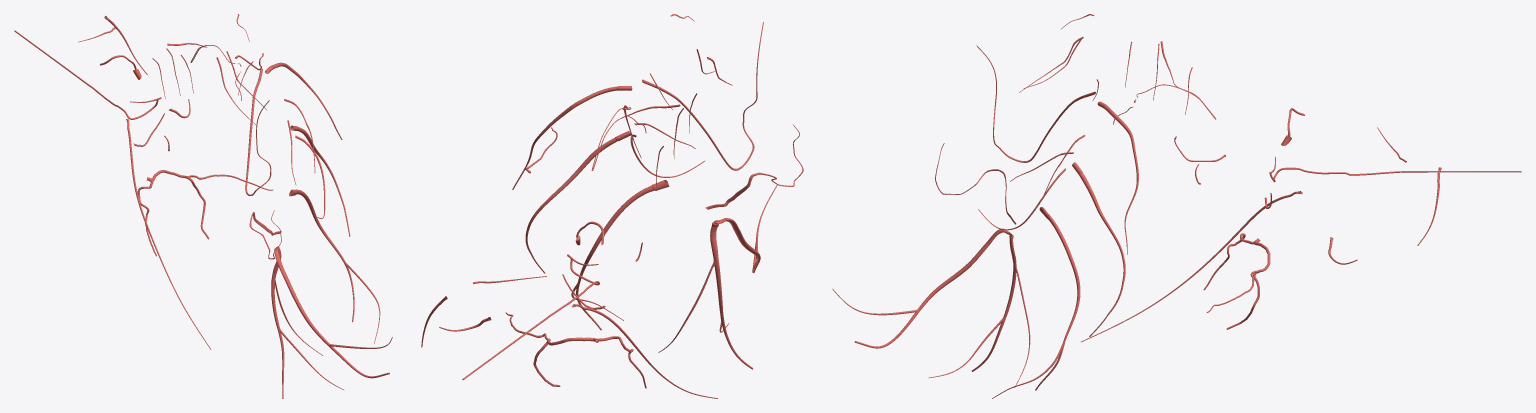
3 renders of one model, left to right at view 1: azimuth 30°, elevation 25°; view 2: azimuth 150°, elevation 25°; view 3: azimuth 270°, elevation 25°, orthographic. The views are drawn at different scales.
Parts seen in each view (by area): view 1: PCA parieto-occipital right, Medial posterior choroidal right, Posterior meningeal VA right, PCA posterior inferior temporal right, PCA calcarine right, PCA middle inferior temporal right, Posterior spinal right, PCA anterior inferior temporal right; view 2: PCA posterior inferior temporal right, PCA middle inferior temporal right, PCA calcarine right, Medial posterior choroidal right, PCA anterior inferior temporal right, Posterior spinal right, PCA splenial right, Posterior meningeal VA right, PCA parieto-occipital right, Pontine circumferential right, PICA hemispheric right; view 3: PCA parieto-occipital right, PCA posterior inferior temporal right, PCA middle inferior temporal right.
Part boxes in pixels (x1=…): PCA parieto-occipital right: x1=274, y1=246, x2=389, y2=378; Medial posterior choroidal right: x1=245, y1=68, x2=271, y2=195; Posterior meningeal VA right: x1=126, y1=119, x2=211, y2=349; PCA posterior inferior temporal right: x1=289, y1=189, x2=354, y2=322; PCA calcarine right: x1=271, y1=247, x2=284, y2=398; PCA middle inferior temporal right: x1=290, y1=125, x2=350, y2=236; Posterior spinal right: x1=14, y1=30, x2=158, y2=119; PCA anterior inferior temporal right: x1=265, y1=62, x2=342, y2=139; PCA posterior inferior temporal right: x1=576, y1=180, x2=669, y2=330; PCA middle inferior temporal right: x1=525, y1=131, x2=631, y2=273; PCA calcarine right: x1=710, y1=222, x2=752, y2=369; Medial posterior choroidal right: x1=642, y1=22, x2=763, y2=170; PCA anterior inferior temporal right: x1=512, y1=86, x2=632, y2=189; Posterior spinal right: x1=462, y1=259, x2=599, y2=379; PCA splenial right: x1=705, y1=124, x2=803, y2=209; Posterior meningeal VA right: x1=571, y1=304, x2=717, y2=398; PCA parieto-occipital right: x1=714, y1=218, x2=760, y2=273; Pontine circumferential right: x1=591, y1=104, x2=680, y2=170; PICA hemispheric right: x1=533, y1=337, x2=598, y2=386; PCA parieto-occipital right: x1=854, y1=228, x2=1012, y2=348; PCA posterior inferior temporal right: x1=1035, y1=207, x2=1080, y2=390; PCA middle inferior temporal right: x1=1072, y1=162, x2=1125, y2=336.
Size of the model in its own units: 49.55 by 100 by 172.
